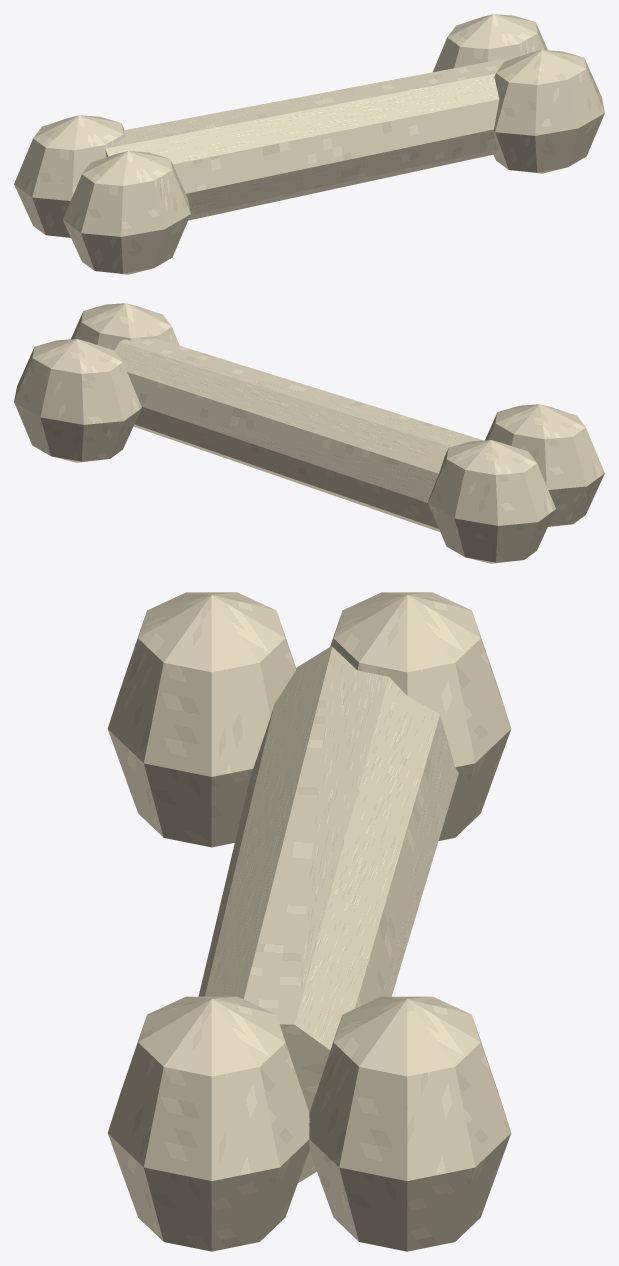
The model's file is bone.glb.
3 renders of one model, top to bottom at view 1: azimuth 30°, elevation 25°; view 2: azimuth 150°, elevation 25°; view 3: azimuth 270°, elevation 25°, orthographic. The views are drawn at different scales.
Visible parts, largest first — view 1: block_joint end (×4), block_bone shaft; view 2: block_joint end (×4), block_bone shaft; view 3: block_joint end (×4), block_bone shaft.
Boxes of the visible parts, left/top/right/bottom form: block_joint end (×4): left=14, top=14, right=604, bottom=274; block_bone shaft: left=105, top=58, right=508, bottom=220; block_joint end (×4): left=14, top=303, right=604, bottom=563; block_bone shaft: left=114, top=338, right=483, bottom=531; block_joint end (×4): left=107, top=592, right=511, bottom=1251; block_bone shaft: left=198, top=646, right=458, bottom=1182.
Bounding box in the file's own units: 0.44 × 0.0982 × 0.1451.
1 material, 1 textured.
